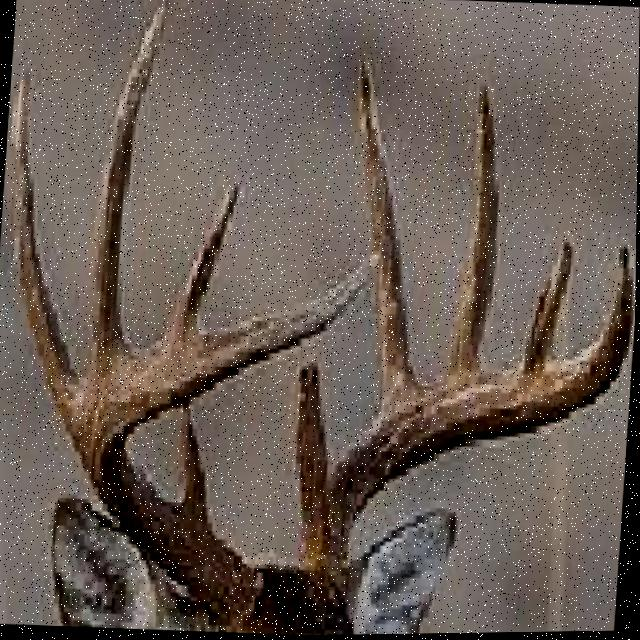L-F: (73, 255, 382, 633)
L-G1: (181, 415, 212, 524)
L-G2: (11, 68, 81, 437)
L-G3: (92, 0, 170, 367)
L-G4: (163, 179, 243, 338)
R-F: (302, 244, 637, 600)
R-G1: (296, 362, 332, 531)
R-G2: (355, 60, 419, 412)
R-G3: (448, 81, 501, 374)
R-G4: (523, 242, 576, 371)
